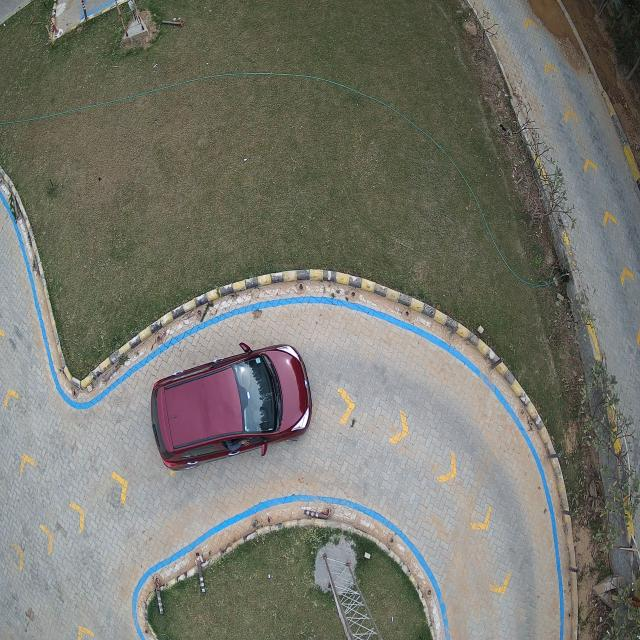car: (151, 343, 312, 470)
